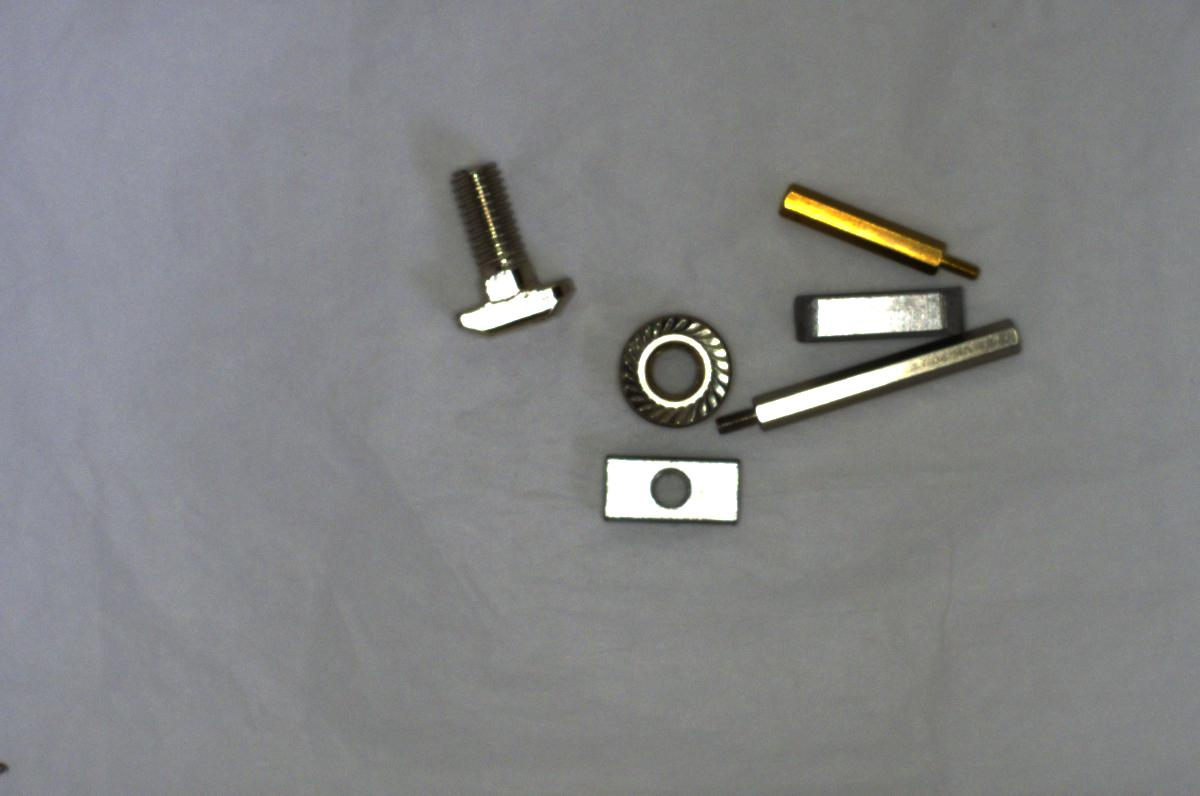Flange nut: (604, 303, 733, 432)
Hexagon pillar: (772, 180, 981, 276)
Hexagonal steel column: (704, 316, 1028, 438)
Keybar: (784, 265, 984, 343)
Rectangular nut: (591, 447, 750, 539)
T-shaped screw: (425, 152, 581, 336)
